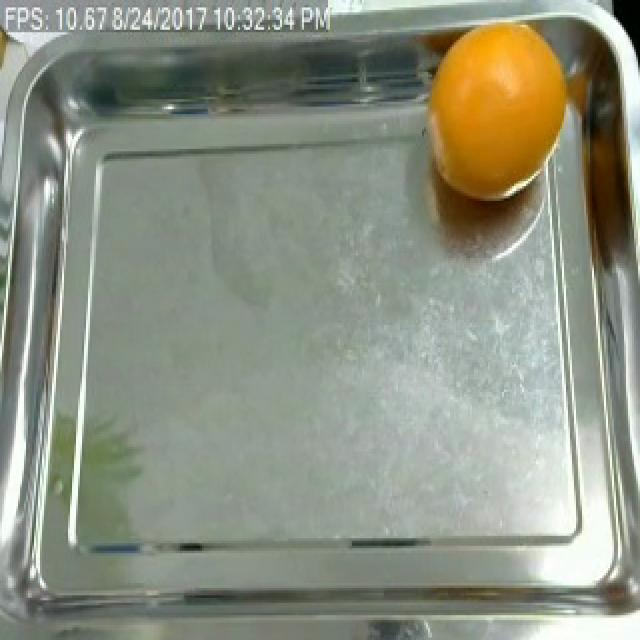Fruit: (418, 15, 582, 211), (0, 2, 18, 112)
